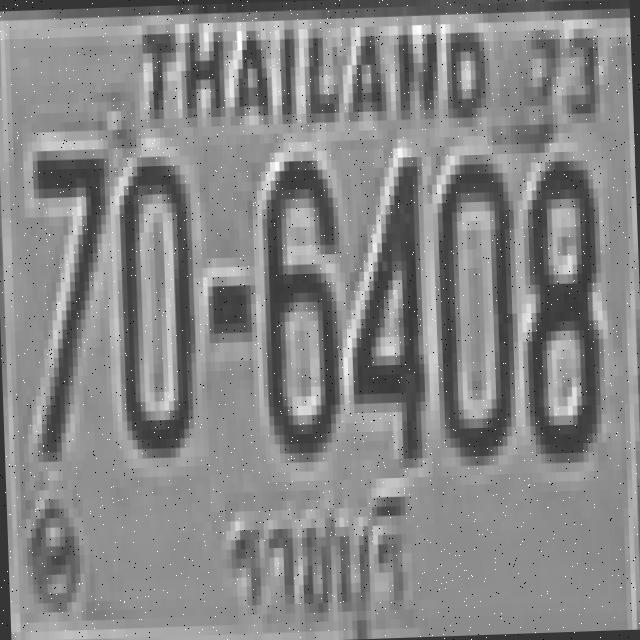0: (431, 154, 516, 456), (112, 146, 194, 450)
4: (346, 152, 426, 455)
6: (255, 150, 341, 454)
7: (27, 139, 114, 452)
8: (516, 150, 602, 454)
Ratchaburi: (223, 467, 418, 640)
